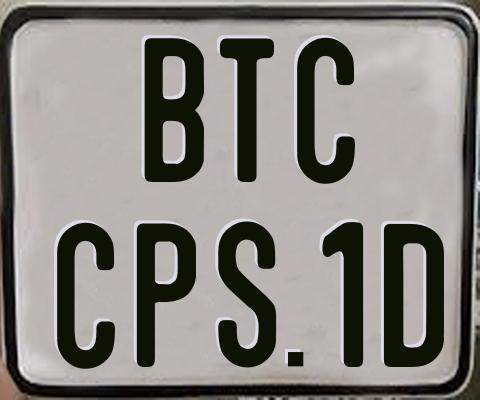1: (321, 222, 368, 369)
B: (144, 38, 203, 182)
C: (295, 37, 359, 186), (54, 223, 112, 375)
D: (382, 223, 448, 368)
P: (137, 222, 197, 372)
S: (216, 220, 276, 371)
T: (217, 35, 277, 180)
